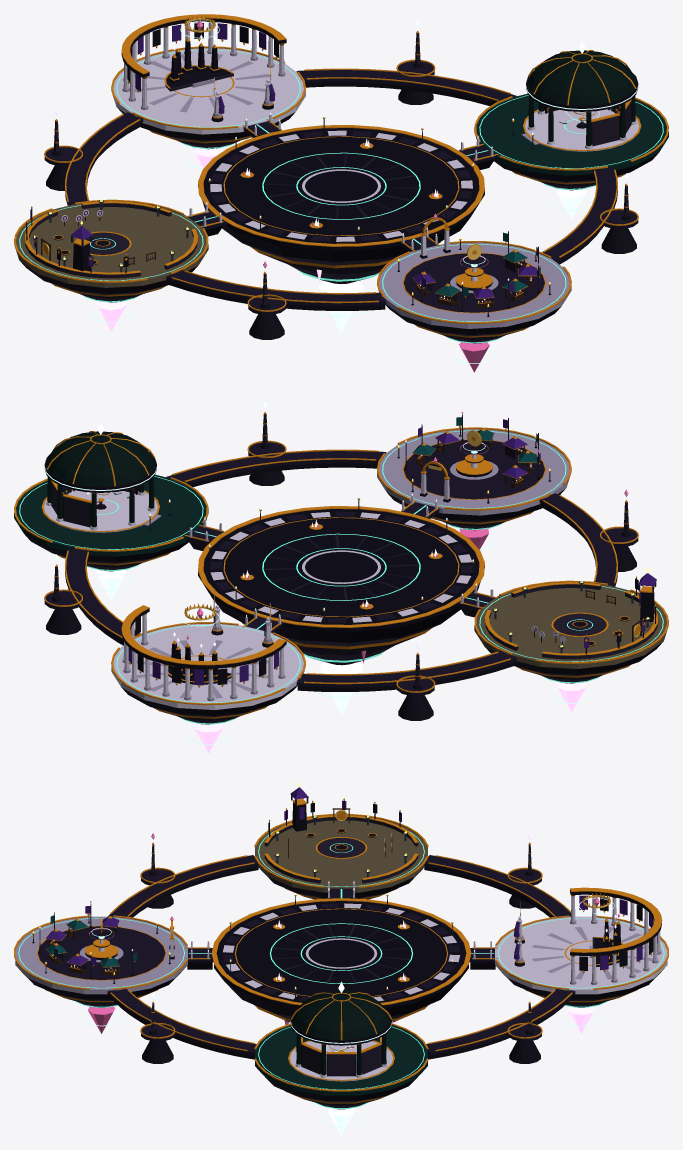
The model's file is crossroads_hub.fbx.
3 renders of one model, top to bottom at view 1: azimuth 30°, elevation 25°; view 2: azimuth 150°, elevation 25°; view 3: azimuth 270°, elevation 25°, orthographic. The views are drawn at different scales.
Parts seen in each view (by area): view 1: HUB_PLATFORM, HUB_HALL_OF_CHAMPIONS, HUB_ARCHIVES, HUB_SHOP, HUB_TRAINING_GROUNDS; view 2: HUB_PLATFORM, HUB_ARCHIVES, HUB_HALL_OF_CHAMPIONS, HUB_TRAINING_GROUNDS, HUB_SHOP; view 3: HUB_PLATFORM, HUB_ARCHIVES, HUB_HALL_OF_CHAMPIONS, HUB_SHOP, HUB_TRAINING_GROUNDS.
Boxes of the visible parts, left/top/right/bottom form: HUB_PLATFORM: left=44, top=20, right=638, bottom=339; HUB_HALL_OF_CHAMPIONS: left=111, top=14, right=305, bottom=168; HUB_ARCHIVES: left=474, top=41, right=668, bottom=218; HUB_SHOP: left=377, top=213, right=571, bottom=372; HUB_TRAINING_GROUNDS: left=14, top=199, right=208, bottom=331; HUB_PLATFORM: left=44, top=401, right=638, bottom=720; HUB_ARCHIVES: left=14, top=422, right=208, bottom=599; HUB_HALL_OF_CHAMPIONS: left=111, top=589, right=305, bottom=753; HUB_TRAINING_GROUNDS: left=474, top=568, right=668, bottom=712; HUB_SHOP: left=377, top=411, right=571, bottom=549; HUB_PLATFORM: left=107, top=833, right=575, bottom=1063; HUB_ARCHIVES: left=254, top=981, right=428, bottom=1135; HUB_HALL_OF_CHAMPIONS: left=495, top=887, right=668, bottom=1033; HUB_SHOP: left=14, top=901, right=187, bottom=1033; HUB_TRAINING_GROUNDS: left=254, top=782, right=428, bottom=899.
Bounding box in the file's own units: 595 × 213 × 595.
